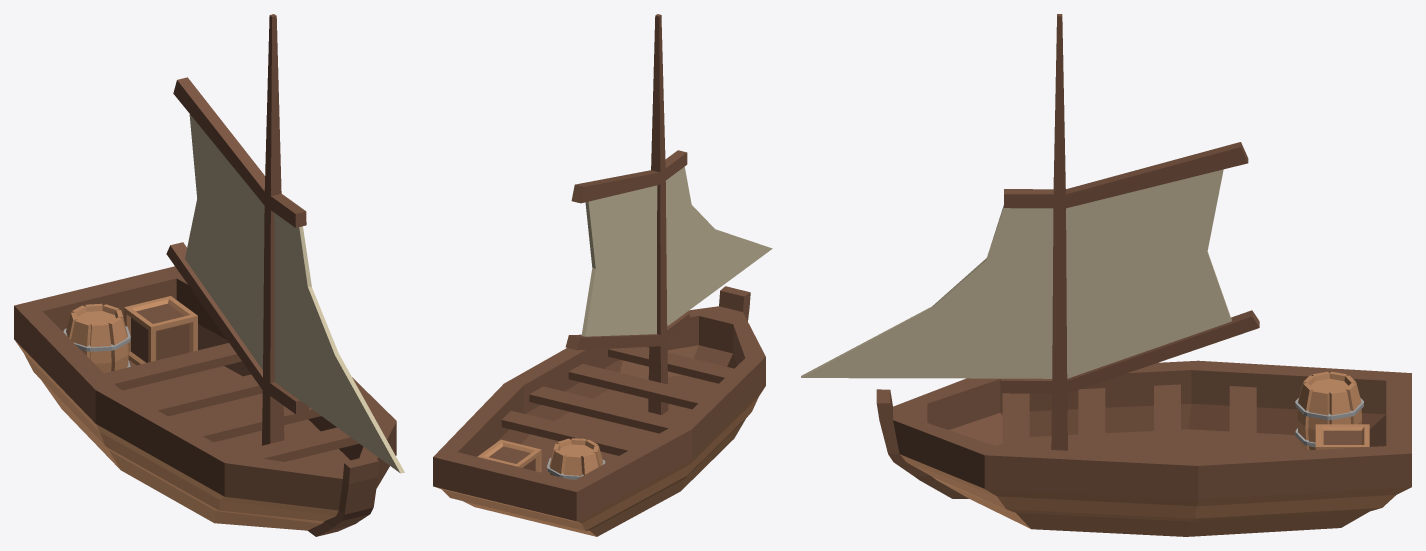
File: sailboat.glb
3 renders of one model, left to right at view 1: azimuth 30°, elevation 25°; view 2: azimuth 150°, elevation 25°; view 3: azimuth 270°, elevation 25°, orthographic. The views are drawn at different scales.
Visible parts, largest first — view 1: Boat, Sail; view 2: Boat, Sail; view 3: Boat, Sail.
Part boxes in pixels (x1,y1,x2,y2): Boat: [14, 14, 396, 536]; Sail: [185, 114, 404, 473]; Boat: [433, 14, 765, 536]; Sail: [581, 167, 772, 336]; Boat: [876, 14, 1411, 536]; Sail: [801, 169, 1231, 378].
Bounding box in the file's own units: 0.4032 × 0.8548 × 0.989.
